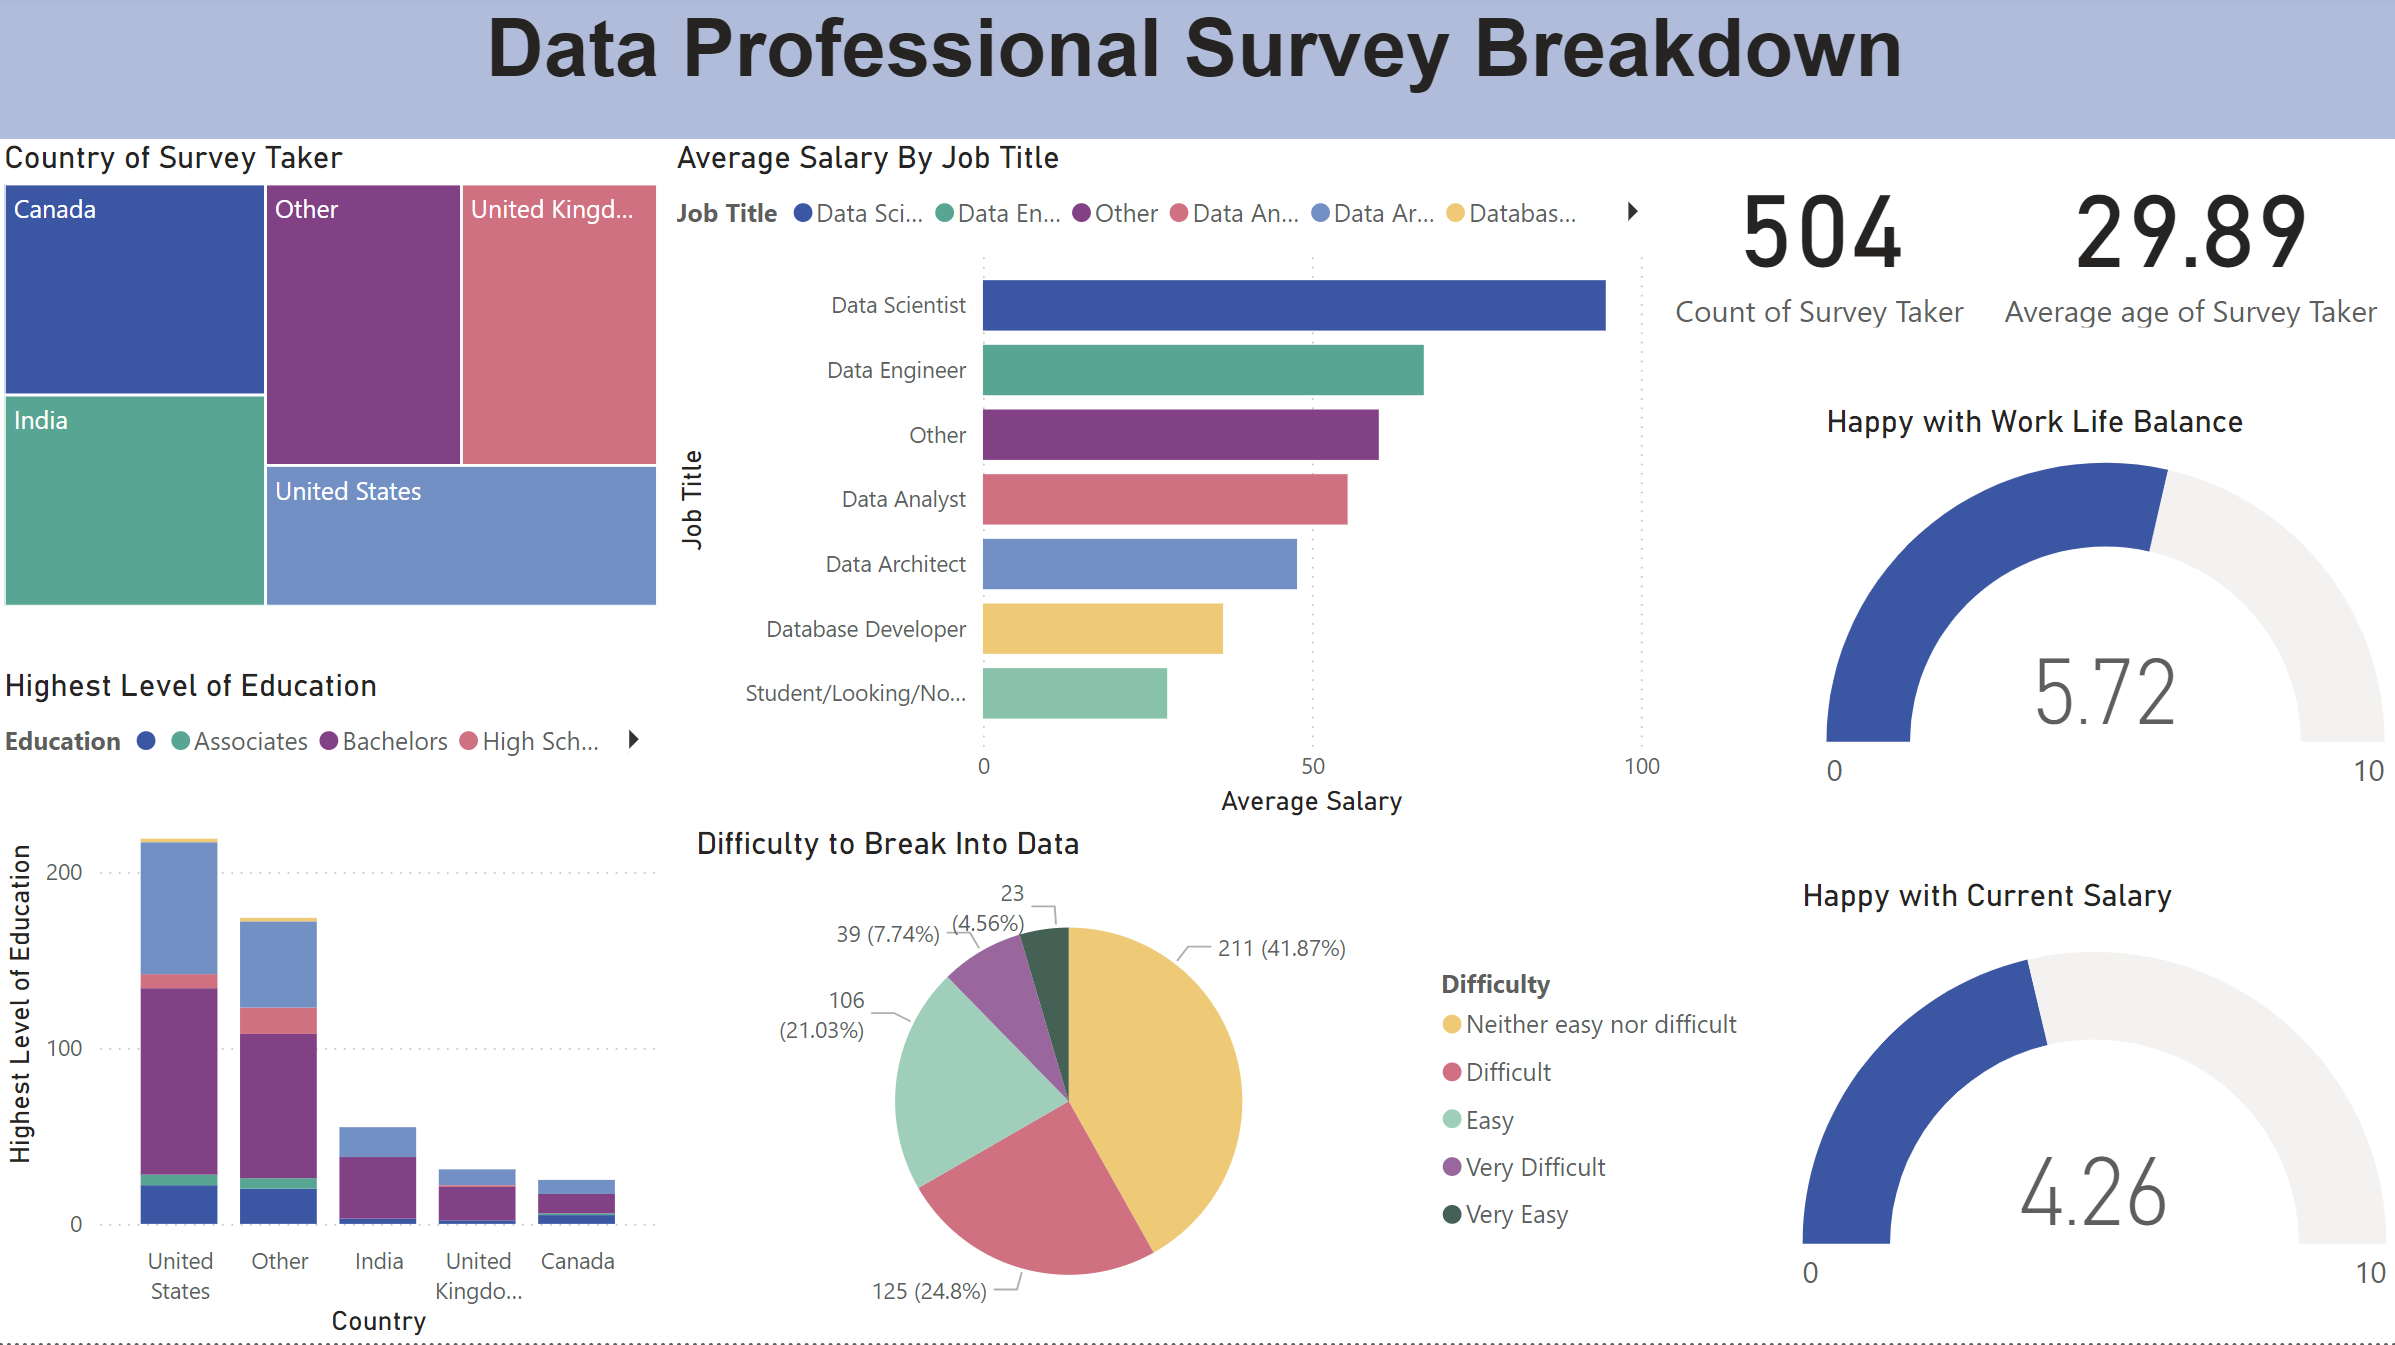

The page's visual inventory and layout, read from the dashboard file:
{"tool":"powerbi","page":{"name":"Page 1","canvas":[1280,720],"ordinal":0},"visuals":[{"type":"textbox","box":[0,0,1280,78.1],"z":0},{"type":"card","fields":{"Values":["CountNonNull(Data Professional Survey.Unique ID)"]},"box":[878.9,78.1,188.3,105.6],"z":1000},{"type":"card","fields":{"Values":["Avg(Data Professional Survey.Q10 - Current Age)"]},"box":[1062.6,78.1,217.4,105.6],"z":2000},{"type":"barChart","title":"Average Salary By Job Title","fields":{"Category":["Data Professional Survey.Q1 - Which Title Best Fits your Current Role?.1"],"Y":["Avg(Data Professional Survey.Average Salary)"],"Series":["Data Professional Survey.Q1 - Which Title Best Fits your Current Role?.1"]},"box":[358.3,78.1,534.4,365.9],"z":3000},{"type":"treemap","title":"Country of Survey Taker","fields":{"Group":["Data Professional Survey.Q11 - Which Country do you live in?.1"],"Values":["Count(Data Professional Survey.Q11 - Which Country do you live in?.1)"]},"box":[0,78.1,358.3,254.2],"z":4000},{"type":"gauge","title":"Happy with Work Life Balance","fields":{"Y":["Avg(Data Professional Survey.Q6 - How Happy are you in your Current Position with the following? (Work/Life Balance))"],"MinValue":["Min(Data Professional Survey.Q6 - How Happy are you in your Current Position with the following? (Work/Life Balance))"],"MaxValue":["Max(Data Professional Survey.Q6 - How Happy are you in your Current Position with the following? (Work/Life Balance))1"]},"box":[972.2,218.9,307.8,225.1],"z":5000},{"type":"gauge","title":"Happy with Current Salary","fields":{"Y":["Avg(Data Professional Survey.Q6 - How Happy are you in your Current Position with the following? (Salary))"],"MinValue":["Min(Data Professional Survey.Q6 - How Happy are you in your Current Position with the following? (Salary))"],"MaxValue":["Max(Data Professional Survey.Q6 - How Happy are you in your Current Position with the following? (Salary))"]},"box":[958.5,471.6,321.5,248],"z":6000},{"type":"pieChart","title":"Difficulty to Break Into Data","fields":{"Category":["Data Professional Survey.Q7 - How difficult was it for you to break into Data?"],"Y":["CountNonNull(Data Professional Survey.Q7 - How difficult was it for you to break into Data?)"]},"box":[369,444,574.2,275.6],"z":7000},{"type":"columnChart","title":"Highest Level of Education","fields":{"Category":["Data Professional Survey.Q11 - Which Country do you live in?.1"],"Y":["CountNonNull(Data Professional Survey.Q12 - Highest Level of Education)"],"Series":["Data Professional Survey.Q12 - Highest Level of Education"]},"box":[0,359.8,358.3,361.3],"z":8000}]}

Visuals, with their boxes in screenshot pixels (x1, y1, x2, y2), scaled from the page's 1280x720 canvas onto the 2395x1345 screenshot:
textbox: left=0, top=0, right=2394, bottom=146
card - CountNonNull(Data Professional Survey.Unique ID): left=1645, top=146, right=1997, bottom=343
card - Avg(Data Professional Survey.Q10 - Current Age): left=1988, top=146, right=2394, bottom=343
"Average Salary By Job Title" barChart: left=670, top=146, right=1670, bottom=829
"Country of Survey Taker" treemap: left=0, top=146, right=670, bottom=621
"Happy with Work Life Balance" gauge: left=1819, top=409, right=2394, bottom=829
"Happy with Current Salary" gauge: left=1793, top=881, right=2394, bottom=1344
"Difficulty to Break Into Data" pieChart: left=690, top=829, right=1765, bottom=1344
"Highest Level of Education" columnChart: left=0, top=672, right=670, bottom=1344
